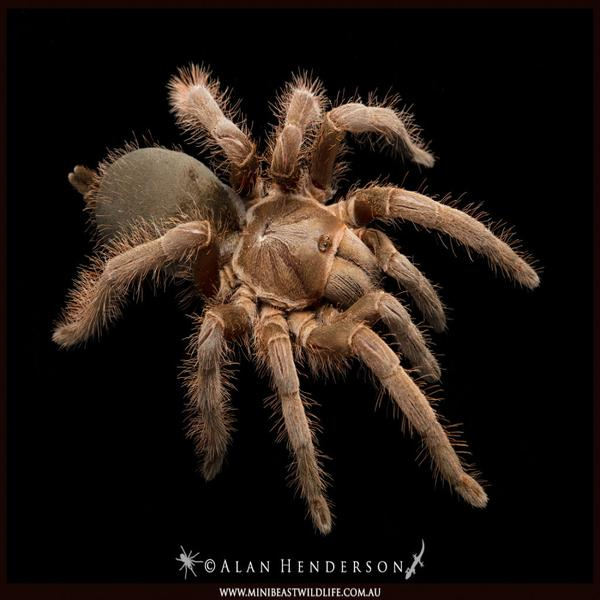Tarantula Spider: (67, 74, 522, 515)
